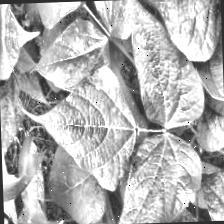Bean Rust: (23, 67, 142, 193), (106, 129, 206, 224), (127, 0, 201, 125), (31, 20, 110, 92), (3, 201, 87, 224), (92, 0, 130, 40), (203, 172, 224, 221)
